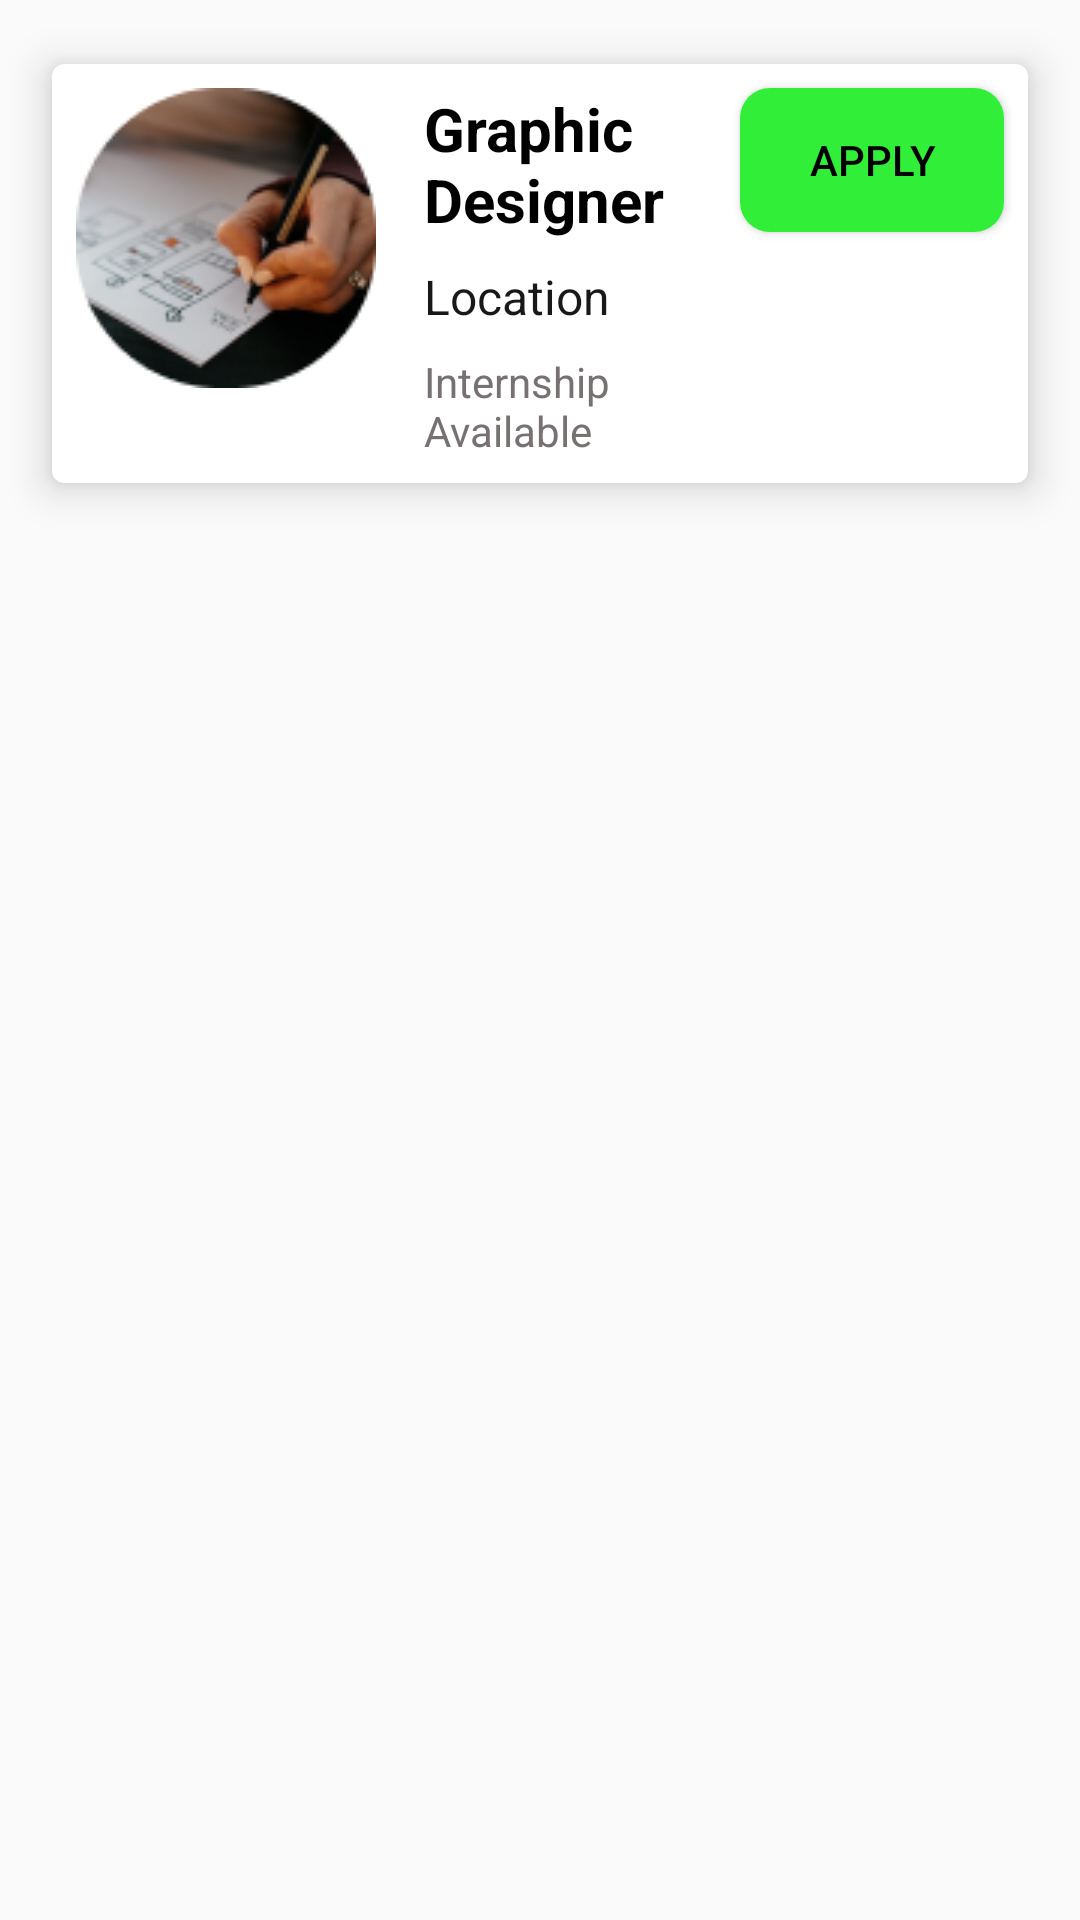

Icon click points for this 1080 x 1920 phone screenshot, format [x,y]:
job: [226,238]
